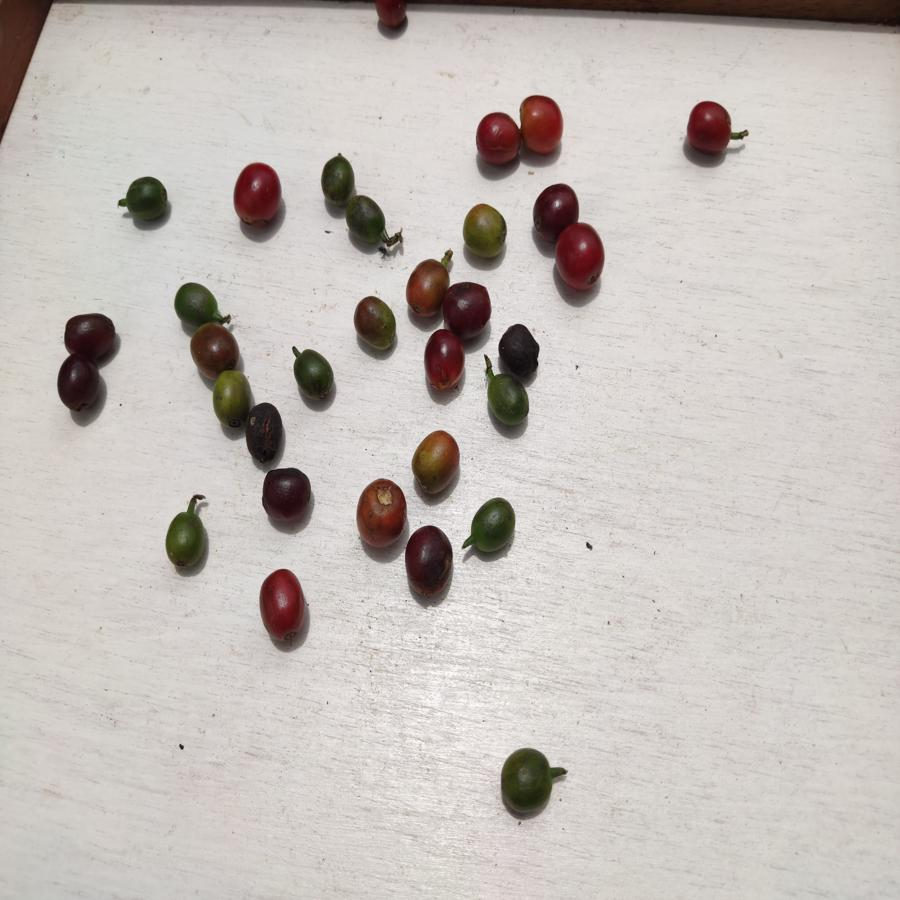Inmaduro: (499, 744, 558, 816), (470, 497, 520, 553), (163, 512, 207, 570), (292, 349, 337, 403), (484, 375, 531, 426), (126, 173, 171, 224), (346, 195, 390, 242), (173, 281, 222, 320), (320, 156, 353, 203)
Maduro: (259, 568, 313, 641), (554, 223, 608, 287), (232, 163, 283, 227), (516, 92, 566, 154), (683, 99, 735, 158), (473, 112, 524, 165), (424, 329, 465, 391)
Pinton: (355, 479, 407, 549), (412, 431, 463, 492), (354, 295, 398, 359), (190, 324, 242, 377), (461, 203, 509, 258), (405, 259, 441, 316), (211, 369, 243, 431)
Sobremaduro: (403, 523, 455, 598), (258, 468, 314, 523), (56, 355, 102, 414), (442, 282, 492, 336), (495, 325, 543, 377), (62, 313, 120, 355), (244, 403, 282, 462), (531, 181, 583, 223)
